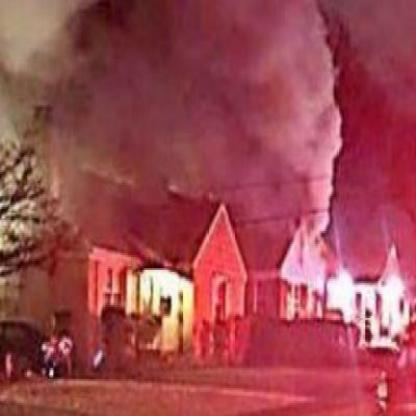smoke: (60, 10, 410, 212)
